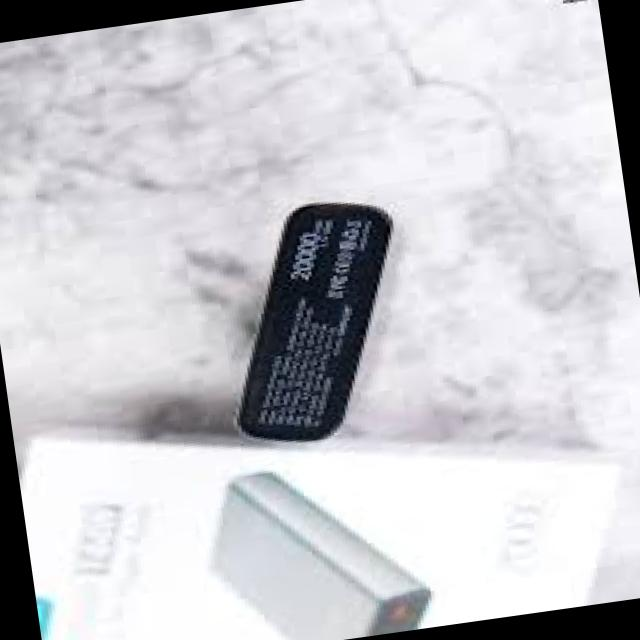power_bank: (195, 447, 436, 640)
